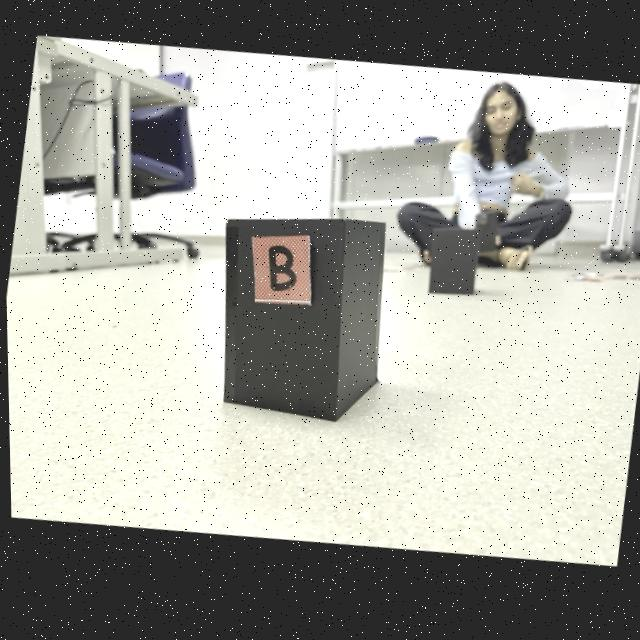B: (267, 249, 294, 294)
